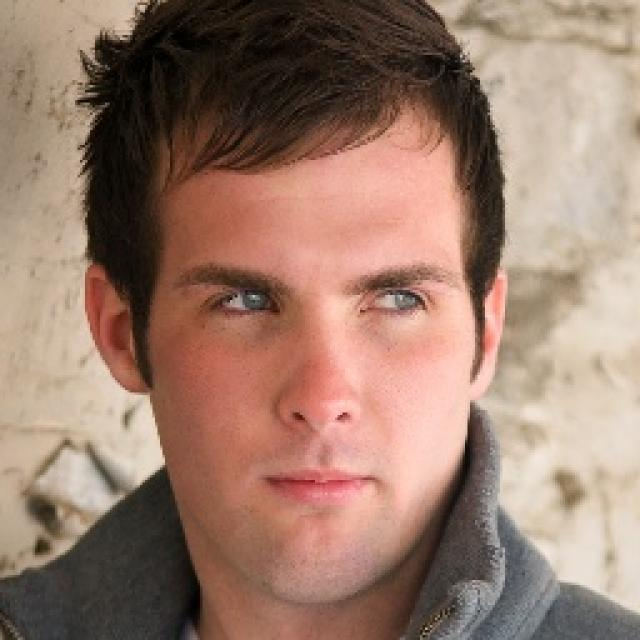earlobe: (118, 348, 150, 396), (469, 356, 496, 402)
eye: (208, 287, 280, 316), (360, 290, 430, 314)
nose: (276, 406, 367, 458)
wholeear: (84, 264, 150, 396), (469, 268, 508, 402)
